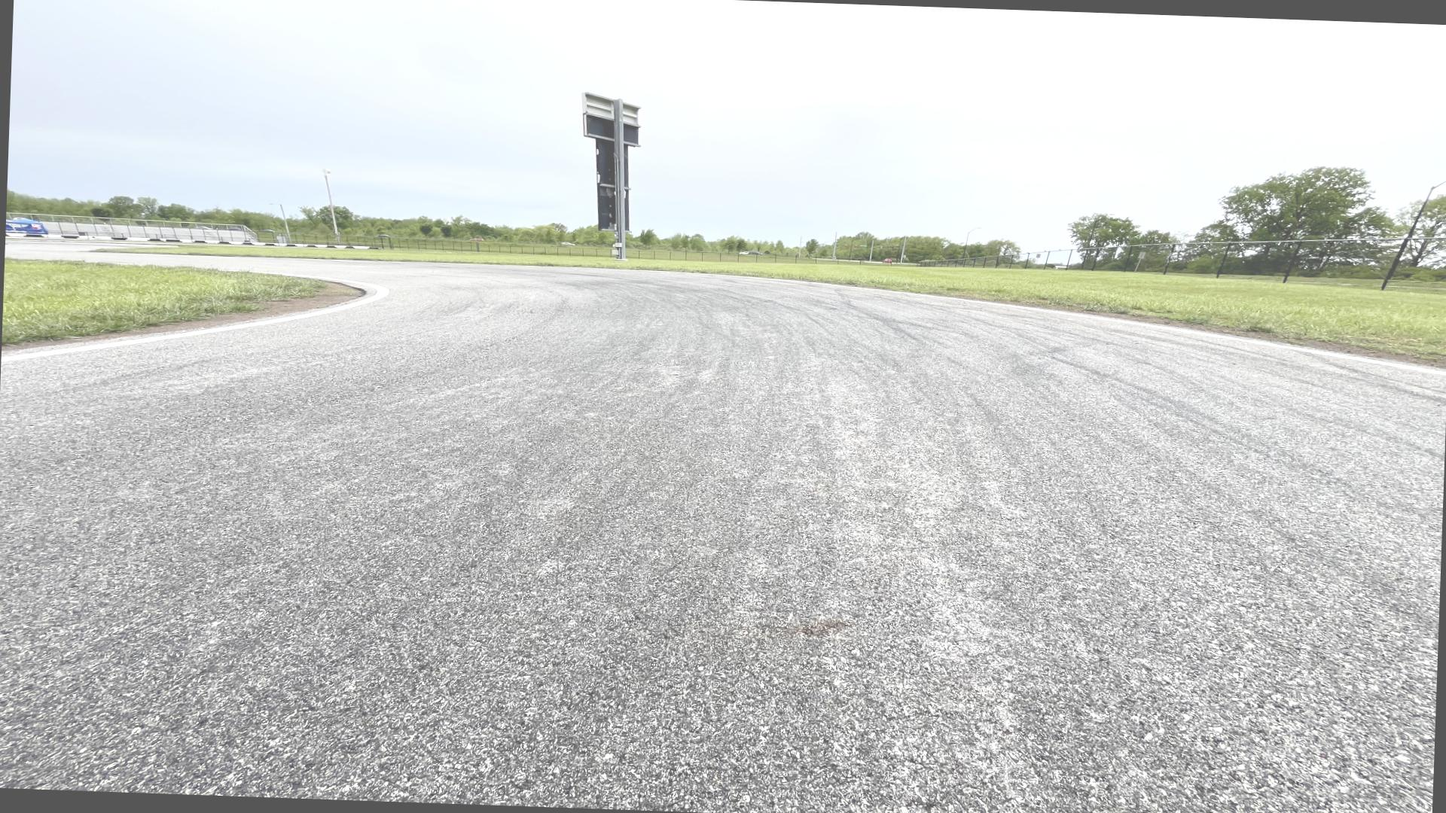white-line: (101, 252, 1445, 376), (2, 269, 390, 361)
